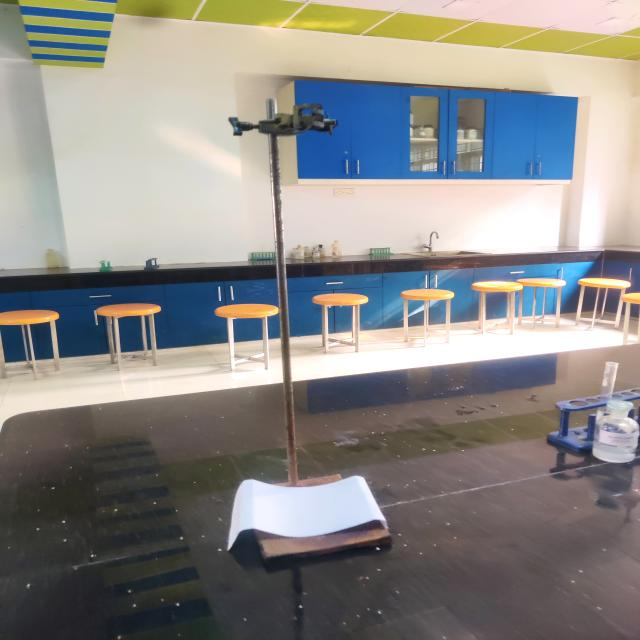Burette_Stands: (209, 84, 386, 558)
